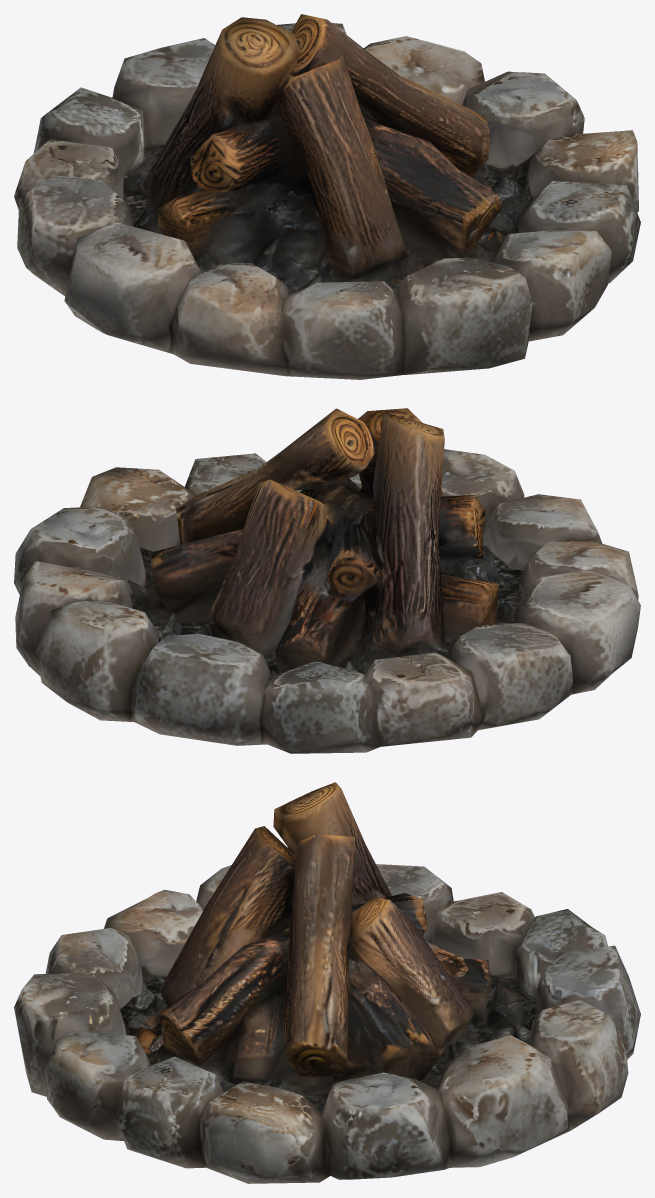
The model's file is bonfire.glb.
The picture shows the model from 3 angles, top to bottom: view 1: azimuth 30°, elevation 25°; view 2: azimuth 150°, elevation 25°; view 3: azimuth 270°, elevation 25°; orthographic projection. The views are drawn at different scales.
Parts seen in each view (by area): view 1: tripo_node_aeff006a-1829-40c4-93a3-06de71208951; view 2: tripo_node_aeff006a-1829-40c4-93a3-06de71208951; view 3: tripo_node_aeff006a-1829-40c4-93a3-06de71208951.
Boxes of the visible parts, x1,y1,x2,y2 form: tripo_node_aeff006a-1829-40c4-93a3-06de71208951: [14, 14, 640, 379]; tripo_node_aeff006a-1829-40c4-93a3-06de71208951: [14, 408, 640, 753]; tripo_node_aeff006a-1829-40c4-93a3-06de71208951: [14, 782, 640, 1183].
Size of the model in its own units: 0.9946 by 0.5286 by 1.01.
Materials: 1 (1 with a texture image).
